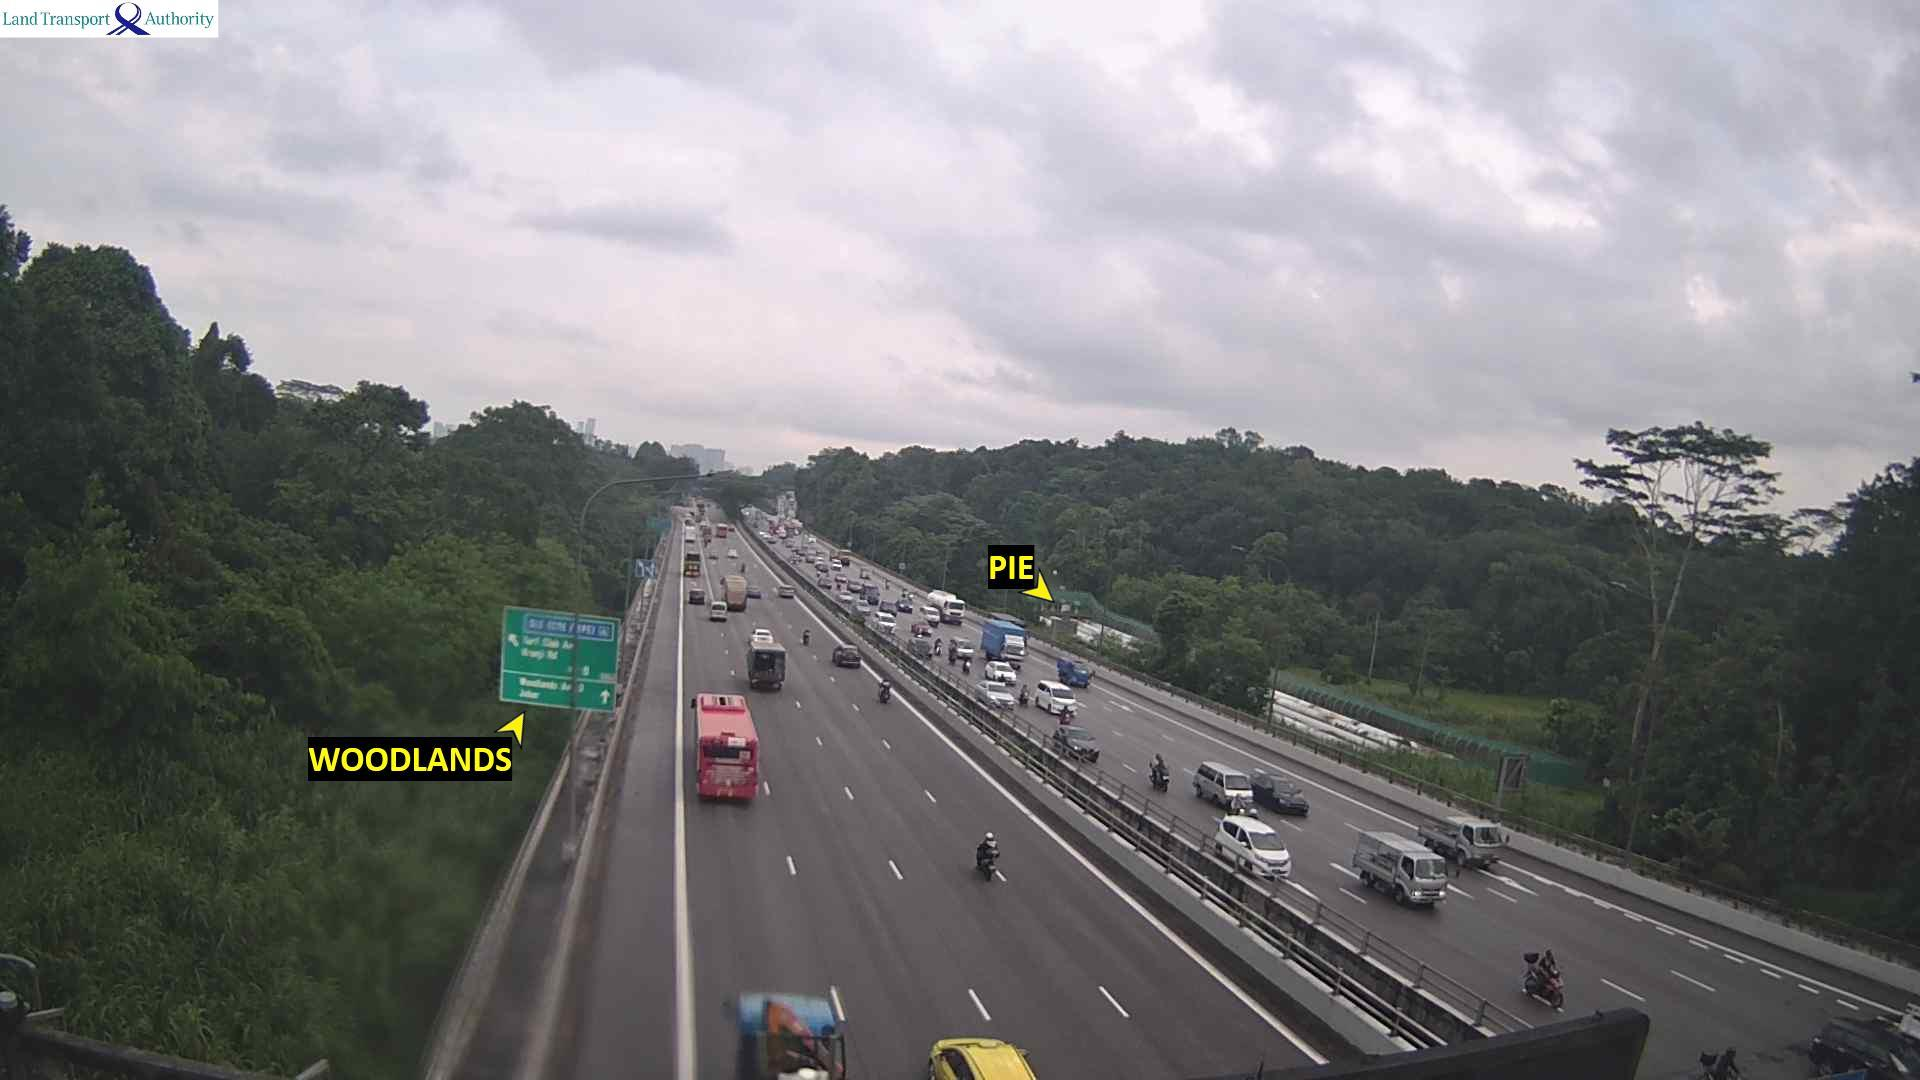incoming: (1397, 854, 1463, 914), (1240, 825, 1293, 876), (1470, 824, 1513, 873), (1269, 778, 1312, 820), (1064, 728, 1103, 767), (1219, 771, 1258, 806), (1048, 686, 1080, 719), (986, 683, 1016, 712), (1545, 961, 1565, 1002), (1005, 637, 1027, 668), (1068, 664, 1094, 690), (942, 598, 966, 625), (992, 661, 1018, 684), (877, 615, 897, 637), (926, 607, 940, 628), (898, 600, 913, 612)
